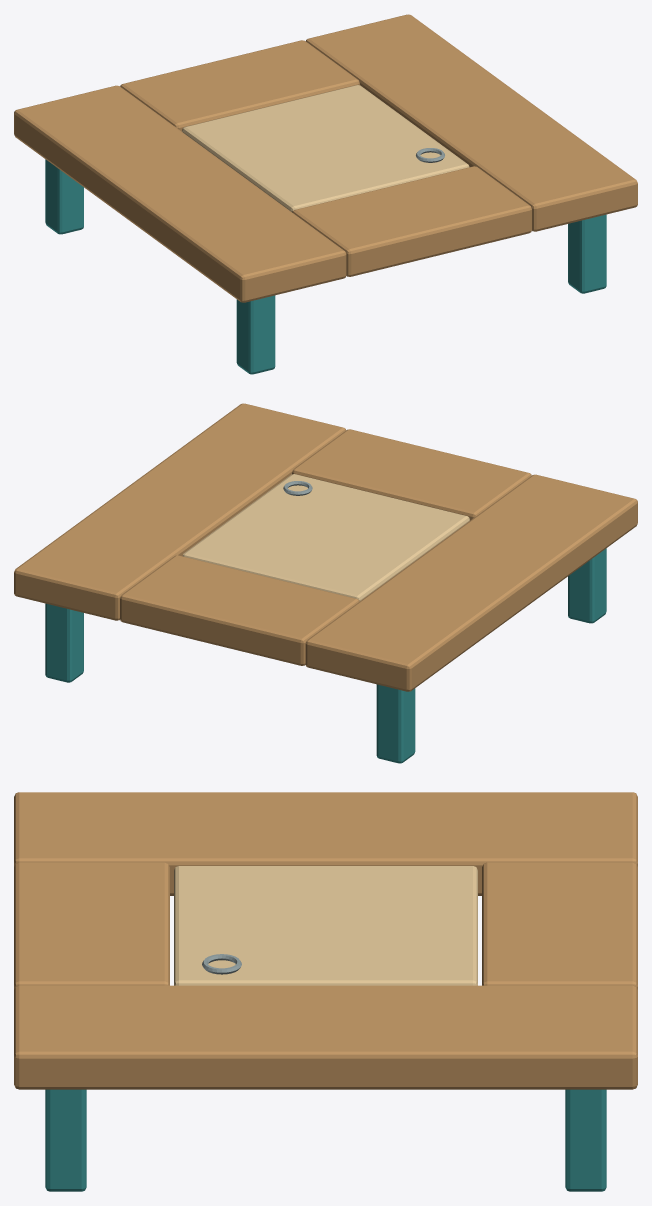
Rendered from S017_trapdoor_platform.glb.
3 renders of one model, top to bottom at view 1: azimuth 30°, elevation 25°; view 2: azimuth 150°, elevation 25°; view 3: azimuth 270°, elevation 25°, orthographic. The views are drawn at different scales.
Parts seen in each view (by area): view 1: stage_deck_side, stage_deck_side.001, trapdoor_lid, stage_deck_end, stage_deck_end.001, stage_leg, stage_leg.002, stage_leg.001; view 2: stage_deck_side, stage_deck_side.001, trapdoor_lid, stage_deck_end.001, stage_deck_end, stage_leg.001, stage_leg.003, stage_leg; view 3: stage_deck_side.001, stage_deck_side, trapdoor_lid, stage_deck_end, stage_deck_end.001, stage_leg.002, stage_leg.003.
Part boxes in pixels (bbox=[...]): stage_deck_side: bbox=[14, 85, 346, 302]; stage_deck_side.001: bbox=[306, 14, 637, 231]; trapdoor_lid: bbox=[182, 85, 469, 212]; stage_deck_end: bbox=[292, 166, 531, 276]; stage_deck_end.001: bbox=[120, 40, 359, 131]; stage_leg: bbox=[236, 295, 275, 374]; stage_leg.002: bbox=[568, 214, 606, 293]; stage_leg.001: bbox=[45, 159, 83, 234]; stage_deck_side: bbox=[305, 474, 637, 691]; stage_deck_side.001: bbox=[14, 403, 345, 620]; trapdoor_lid: bbox=[182, 474, 469, 601]; stage_deck_end.001: bbox=[120, 555, 359, 665]; stage_deck_end: bbox=[292, 429, 531, 520]; stage_leg.001: bbox=[376, 684, 415, 763]; stage_leg.003: bbox=[45, 603, 83, 682]; stage_leg: bbox=[568, 548, 606, 623]; stage_deck_side.001: bbox=[14, 985, 637, 1089]; stage_deck_side: bbox=[14, 792, 637, 895]; trapdoor_lid: bbox=[174, 866, 477, 985]; stage_deck_end: bbox=[14, 862, 169, 989]; stage_deck_end.001: bbox=[482, 862, 637, 989]; stage_leg.002: bbox=[45, 1089, 86, 1191]; stage_leg.003: bbox=[565, 1089, 606, 1191].
Bounding box in the file's own units: 2.4 × 0.6674 × 2.4.
